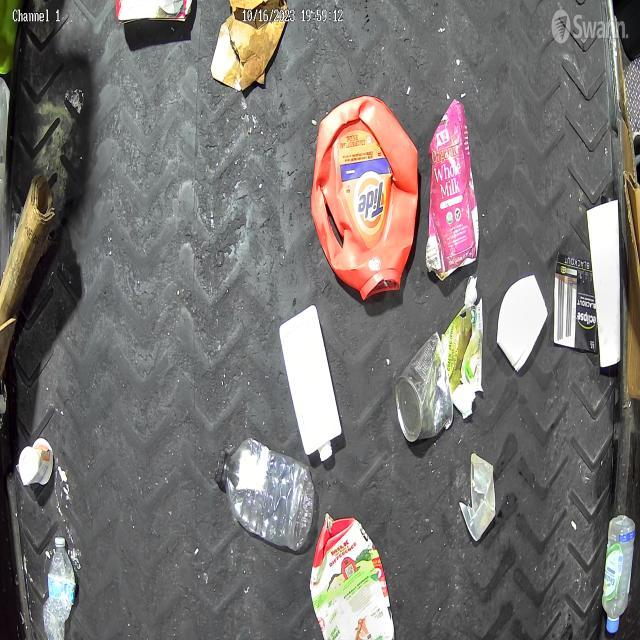can: (394, 325, 456, 455)
non_white_jug: (308, 96, 427, 316)
plastic_bottle: (208, 416, 322, 554), (596, 499, 640, 640), (34, 527, 82, 640)
